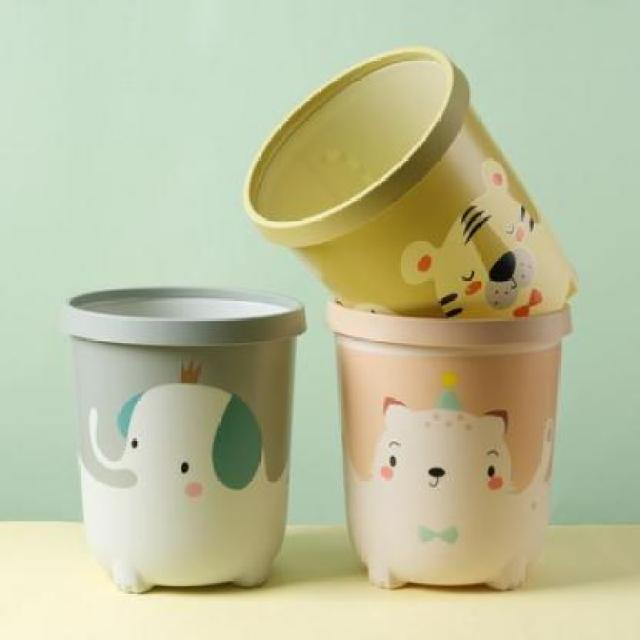dustbin: (242, 40, 586, 323), (60, 281, 312, 607), (322, 292, 580, 600)
